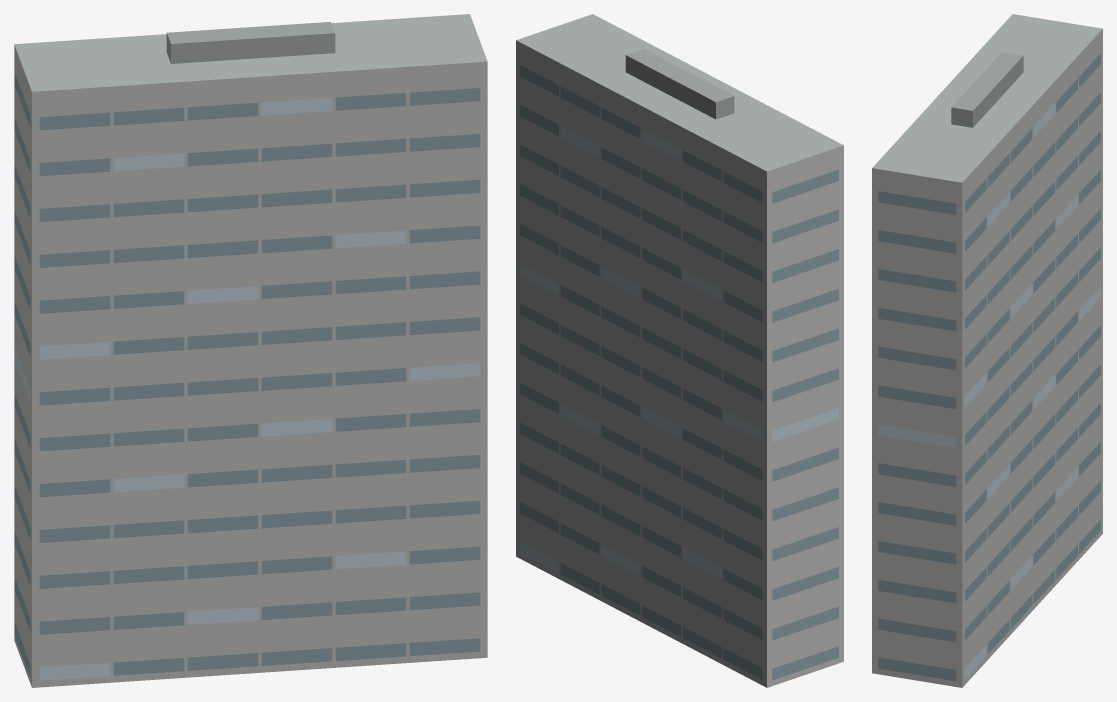
Rendered from fallback-jamsil-els-120.glb.
3 renders of one model, left to right at view 1: azimuth 30°, elevation 25°; view 2: azimuth 150°, elevation 25°; view 3: azimuth 270°, elevation 25°, orthographic. The views are drawn at different scales.
Visible parts, largest first — view 1: fallback-jamsil-els-120; view 2: fallback-jamsil-els-120; view 3: fallback-jamsil-els-120.
Part boxes in pixels (x1,y1,x2,y2): fallback-jamsil-els-120: (14, 14, 487, 687); fallback-jamsil-els-120: (516, 14, 843, 687); fallback-jamsil-els-120: (872, 14, 1102, 687).
Bounding box in the file's own units: 51.31 × 74 × 29.64.
